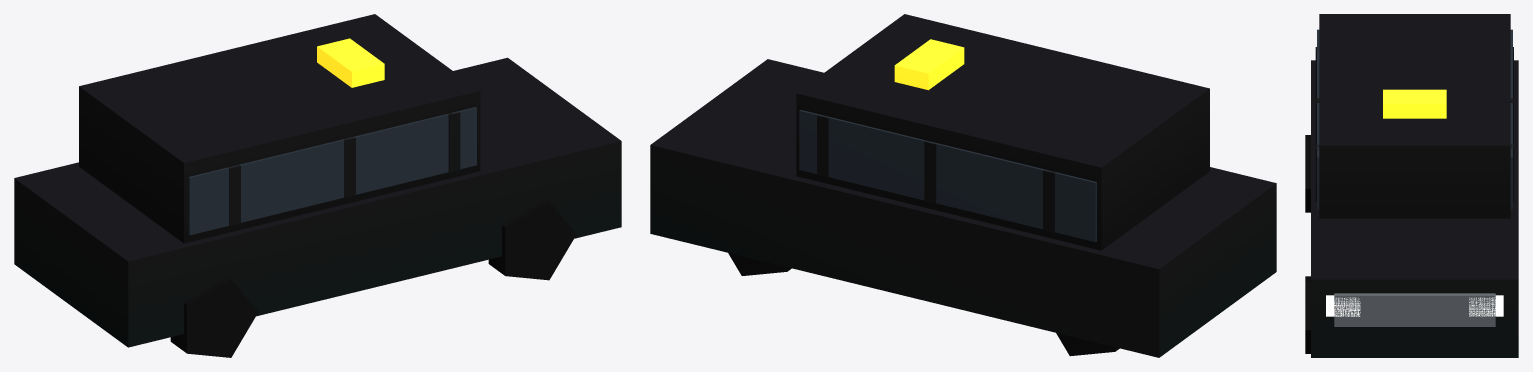
The model's file is ld_cab_lo-C82baZNm.glb.
3 renders of one model, left to right at view 1: azimuth 30°, elevation 25°; view 2: azimuth 150°, elevation 25°; view 3: azimuth 270°, elevation 25°, orthographic. The views are drawn at different scales.
Bounding box in the file's own units: 4.55 × 1.87 × 1.85.
